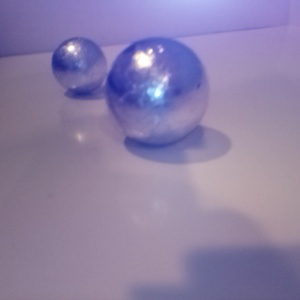alive_ball: (106, 38, 211, 147), (52, 37, 108, 94)
